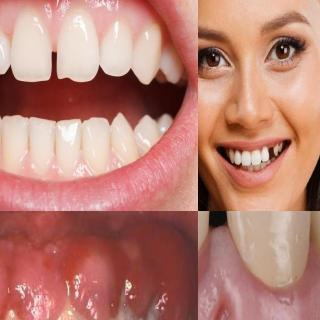Gum Swelling: (0, 273, 188, 320)
calculus: (138, 283, 168, 320), (45, 304, 95, 320), (109, 298, 137, 320)
maligned: (231, 149, 244, 168)
